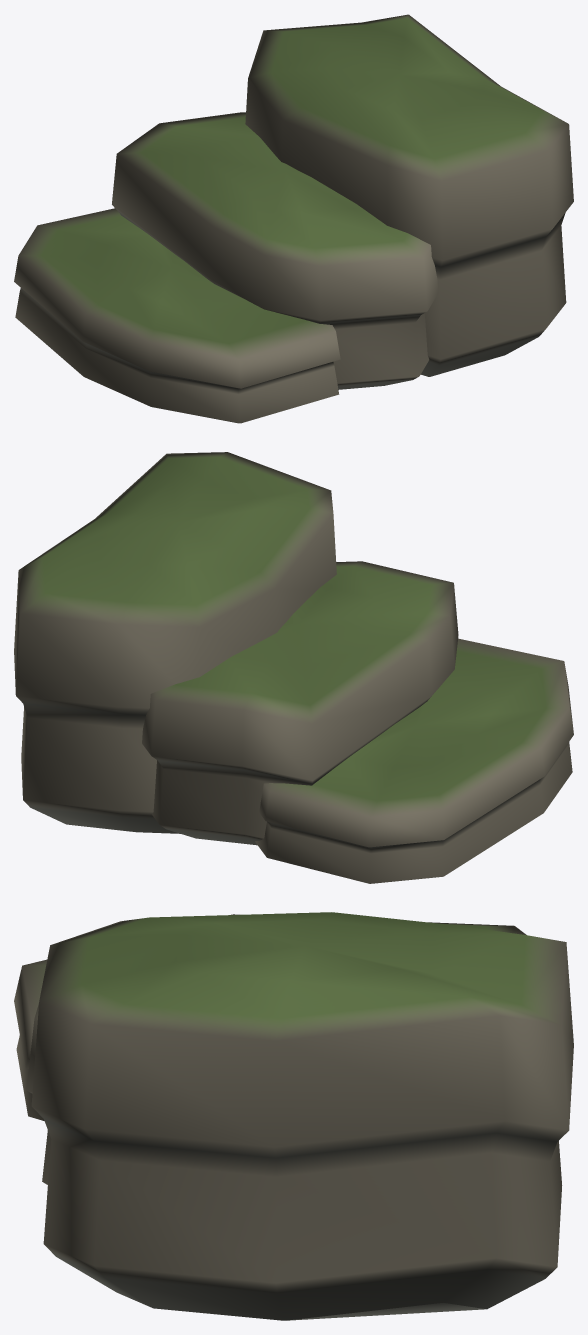
Rendered from River Stair Outcrop.glb.
3 views of the same model, one above another, from view 1: azimuth 30°, elevation 25°; view 2: azimuth 150°, elevation 25°; view 3: azimuth 270°, elevation 25° (orthographic). The views are drawn at different scales.
Visible parts, largest first — view 1: River Stair Outcrop; view 2: River Stair Outcrop; view 3: River Stair Outcrop.
Boxes of the visible parts, x1,y1,x2,y2 form: River Stair Outcrop: (14,14,573,423); River Stair Outcrop: (14,452,573,883); River Stair Outcrop: (14,912,573,1320).
Bounding box in the file's own units: 2.14 × 1.2 × 1.79.
